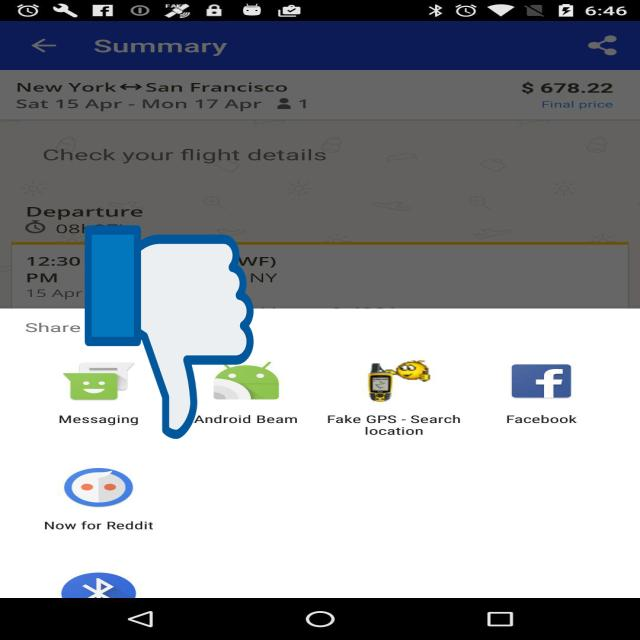obstruction: (84, 221, 253, 444)
